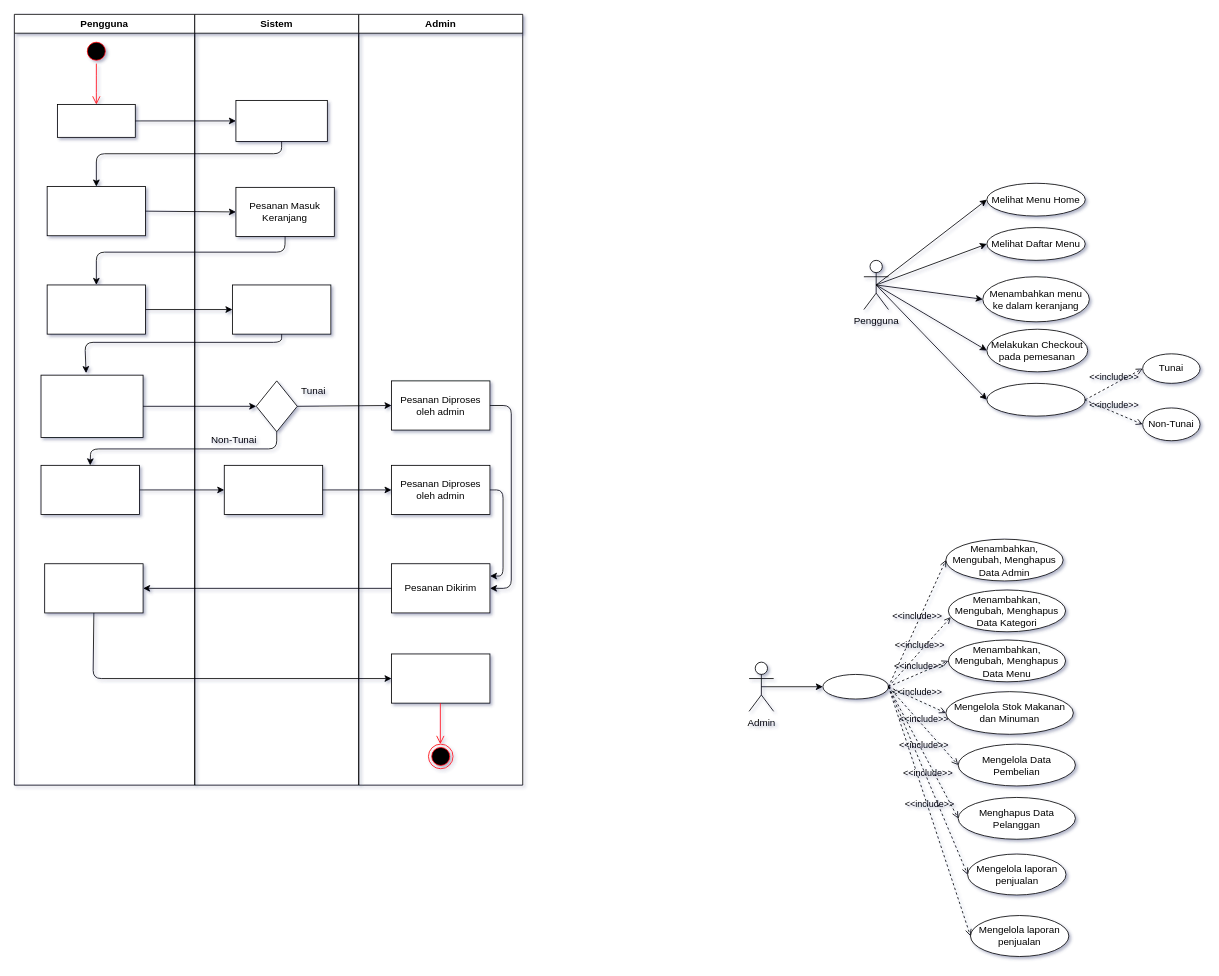
Some shapes in this 1219 by 976 pixel diagram are drawn without their labels. The centre of each missing label's shape, as x and y in pixels:
"LOGIN" goes at (x=855, y=686).
"Login/Registrasi" goes at (x=96, y=120).
"Melakukan Checkout" goes at (x=96, y=309).
"Melakukan Pembayaran" goes at (x=1035, y=399).
"Membuka tampilan menu / memilih menu yang diinginkan" goes at (x=96, y=211).
"Memilih Ongkos Kirim dan Metode Pembayaran serta menginput alamat pengiriman" goes at (x=91, y=405).
"Menampilkan Halaman Checkout" goes at (x=281, y=309).
"Menampilkan Halaman Website" goes at (x=281, y=120).
"Menginput Bukti Pembayaran" goes at (x=89, y=490).
"Pembayaran Terkonfirmasi" goes at (x=273, y=490).
"Pesanan Diterima" goes at (x=93, y=588).
"Pesanan Selesai" goes at (x=440, y=678).
